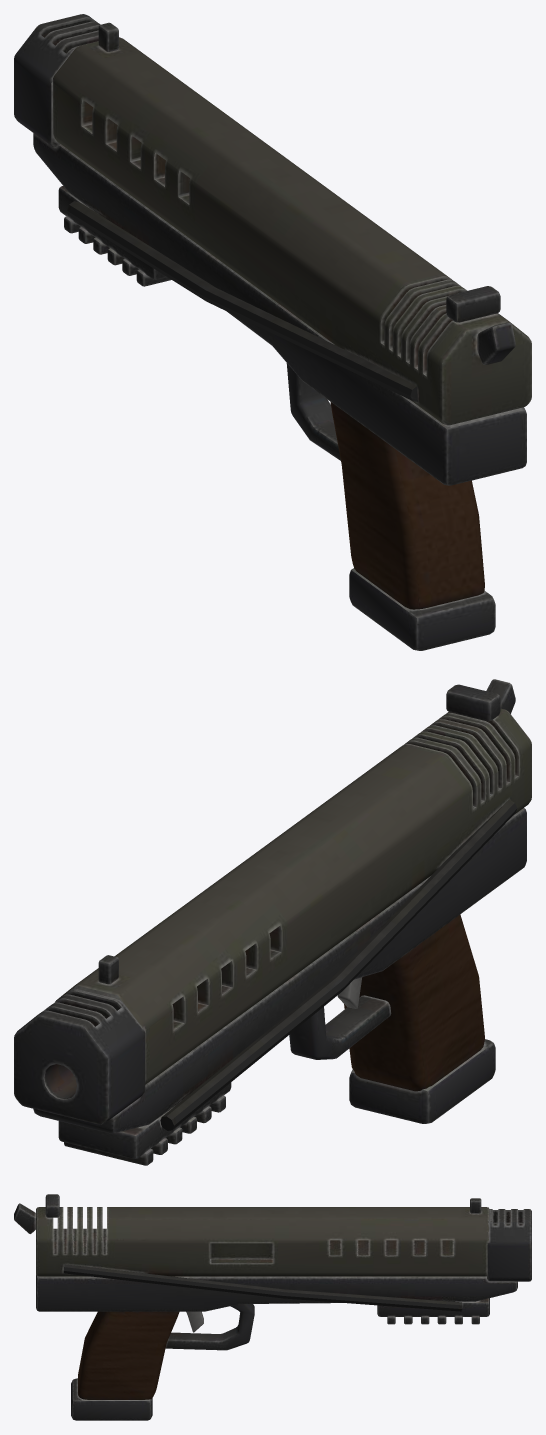
Rendered from levy_impulse_pistol.glb.
The picture shows the model from 3 angles, top to bottom: view 1: azimuth 30°, elevation 25°; view 2: azimuth 150°, elevation 25°; view 3: azimuth 270°, elevation 25°; orthographic projection. The views are drawn at different scales.
Visible parts, largest first — view 1: levy_impulse_pistol; view 2: levy_impulse_pistol; view 3: levy_impulse_pistol.
Boxes of the visible parts, left/top/right/bottom form: levy_impulse_pistol: left=14, top=14, right=531, bottom=650; levy_impulse_pistol: left=14, top=679, right=531, bottom=1165; levy_impulse_pistol: left=14, top=1194, right=531, bottom=1420.
Bounding box in the file's own units: 0.067 × 0.166 × 0.3686.
1 material, 1 textured.
